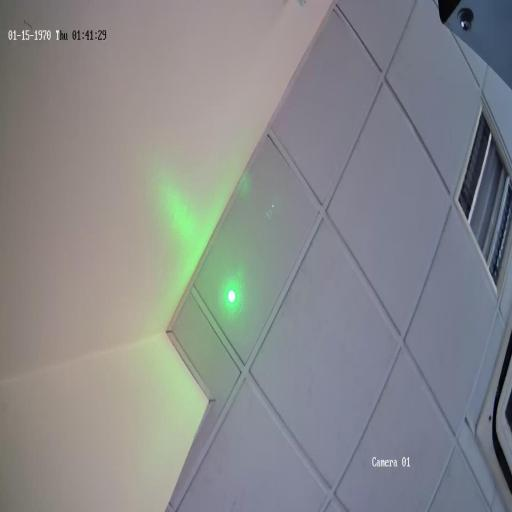laser: (225, 285, 239, 309)
